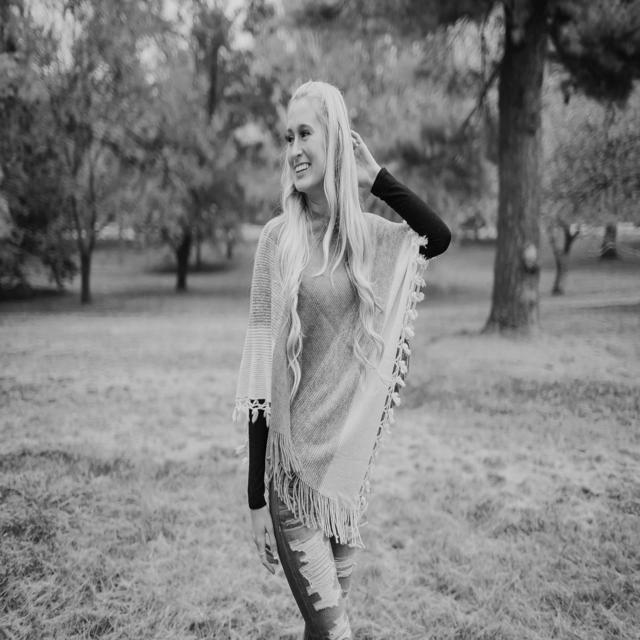Happiness: (280, 93, 328, 197)
